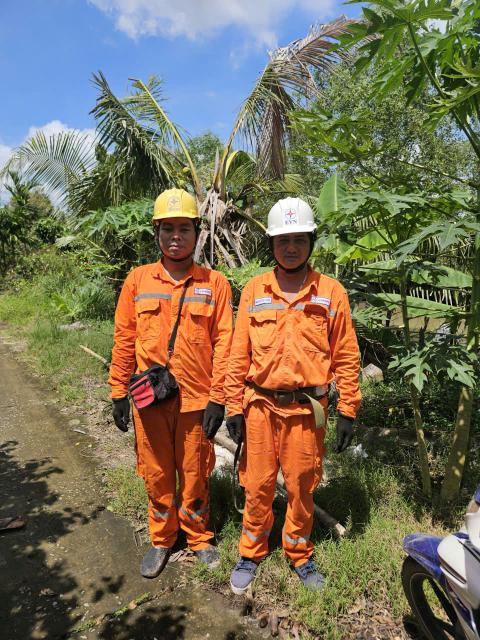gloves: (193, 387, 230, 439), (218, 405, 254, 446), (107, 387, 136, 437), (326, 408, 353, 450)
harness: (246, 370, 342, 412)
helmet: (263, 193, 327, 242), (145, 182, 216, 223)
shoes: (223, 534, 270, 593), (285, 548, 342, 595), (143, 533, 179, 581), (187, 532, 223, 570)
